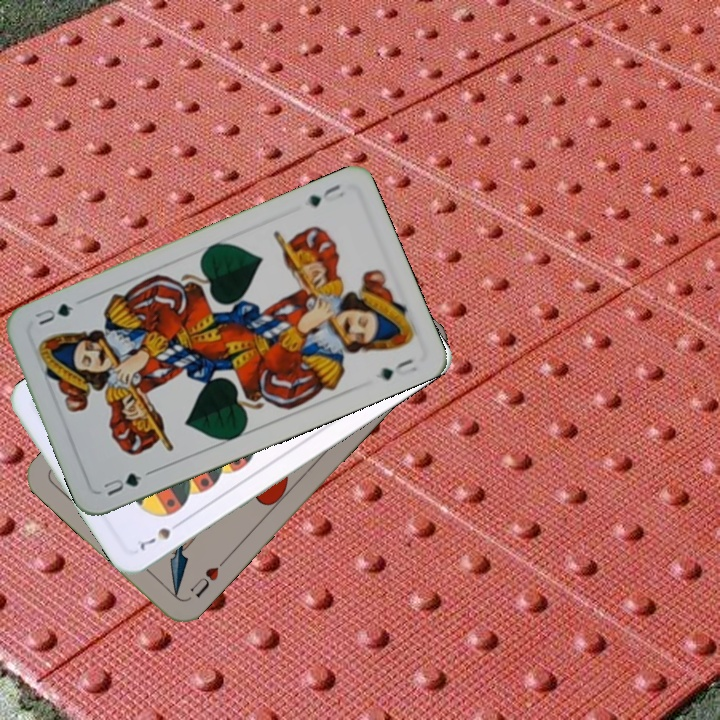GU: (99, 468, 144, 499), (303, 180, 347, 210)
HU: (185, 555, 229, 600)
S7: (135, 516, 186, 554)
